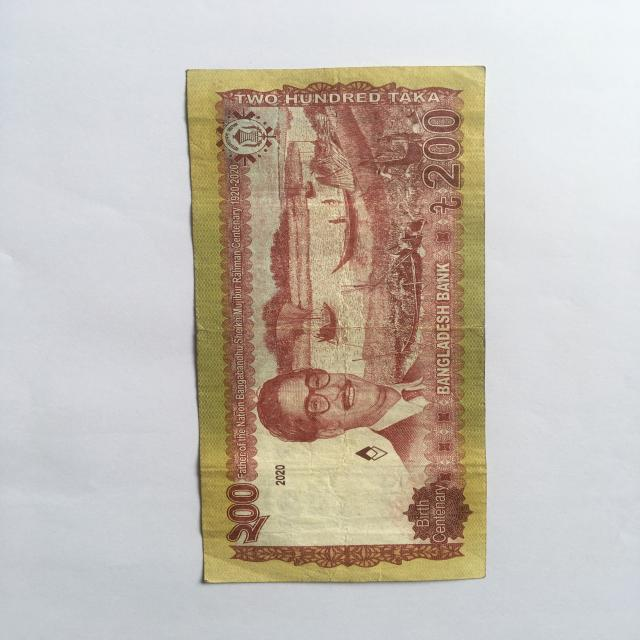Taka: (184, 63, 484, 579)
